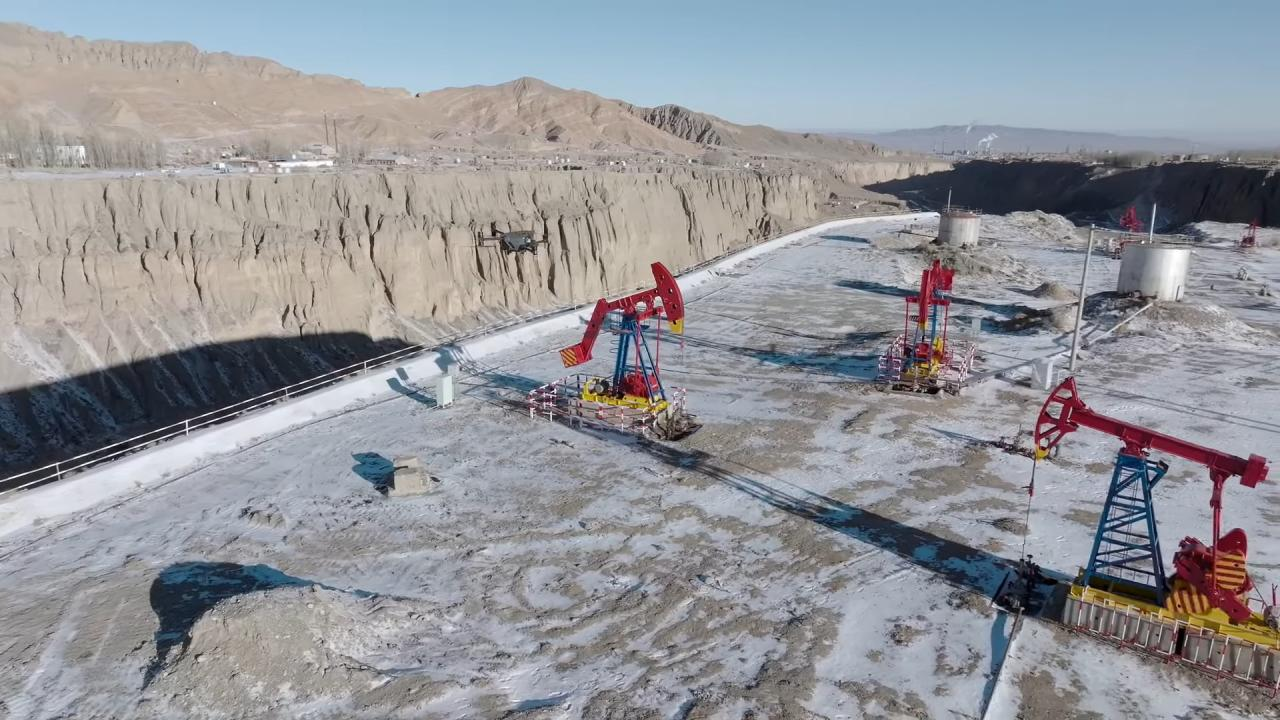Drone: (464, 216, 563, 266)
